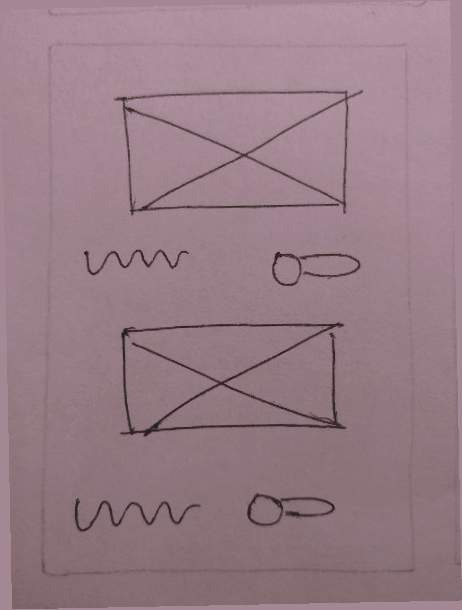image: (109, 77, 369, 231), (108, 311, 352, 444)
switch: (234, 483, 346, 540), (258, 239, 368, 291)
text: (67, 486, 209, 538), (73, 239, 196, 290)
